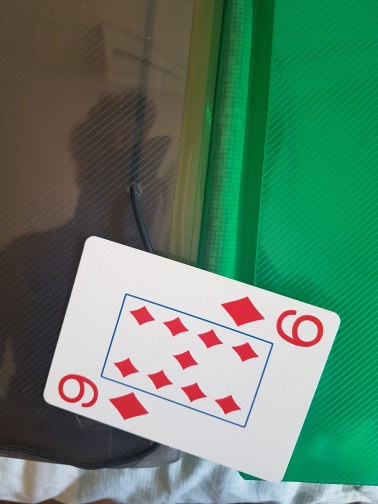nine: (42, 236, 340, 487)
